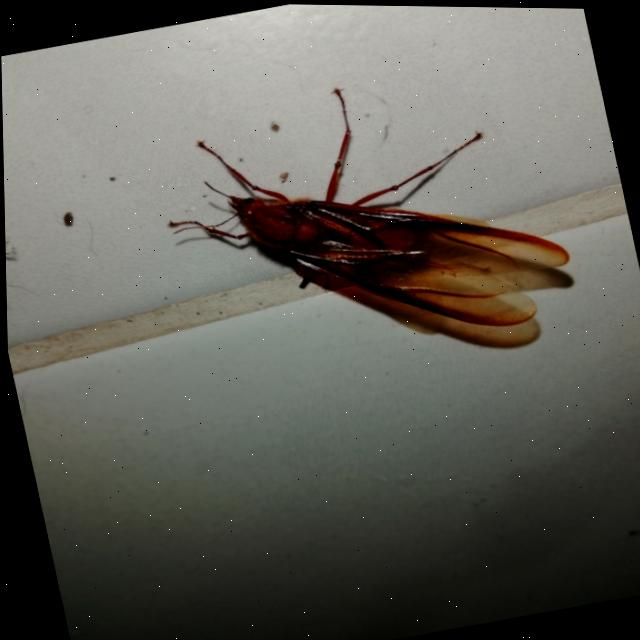Alive-Male-Alate: (146, 48, 581, 384)
